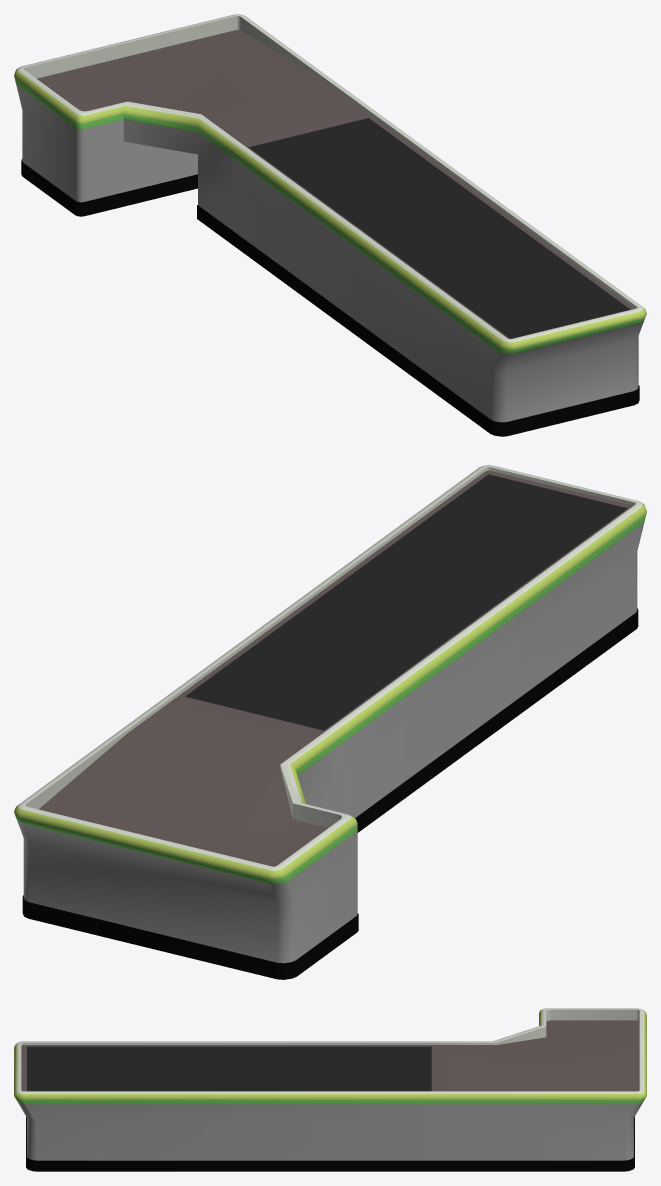
Rendered from Lenta.fbx.
3 views of the same model, one above another, from view 1: azimuth 30°, elevation 25°; view 2: azimuth 150°, elevation 25°; view 3: azimuth 270°, elevation 25° (orthographic). The views are drawn at different scales.
Parts seen in each view (by area): view 1: Cube.010; view 2: Cube.010; view 3: Cube.010.
Boxes of the visible parts, x1,y1,x2,y2 form: Cube.010: [14, 14, 646, 436]; Cube.010: [14, 465, 646, 979]; Cube.010: [14, 1008, 646, 1171].
Bounding box in the file's own units: 239 × 96.46 × 722.
